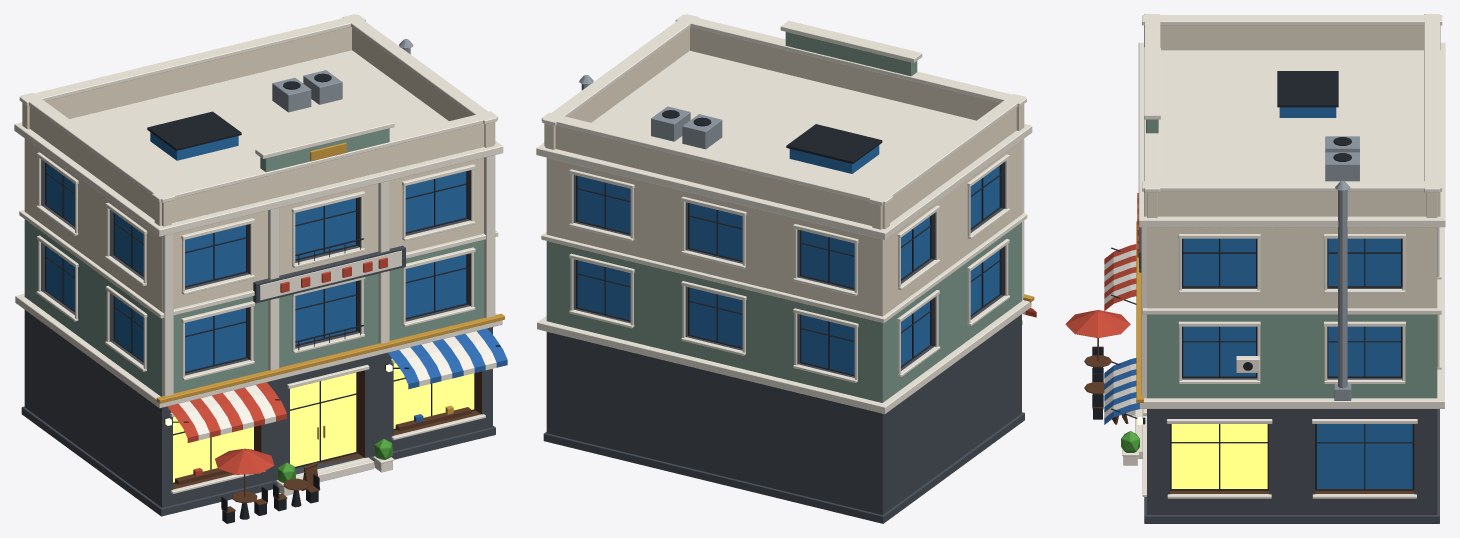
File: 04_commercial-lod0.glb
3 renders of one model, left to right at view 1: azimuth 30°, elevation 25°; view 2: azimuth 150°, elevation 25°; view 3: azimuth 270°, elevation 25°, orthographic. The views are drawn at different scales.
Parts seen in each view (by area): view 1: EdificioComercial_LOD0; view 2: EdificioComercial_LOD0; view 3: EdificioComercial_LOD0.
Part boxes in pixels (<box>): EdificioComercial_LOD0: <box>14,14,507,523</box>; EdificioComercial_LOD0: <box>536,14,1036,523</box>; EdificioComercial_LOD0: <box>1065,14,1445,523</box>.
Size of the model in its own units: 13.54 by 12.46 by 12.05.
